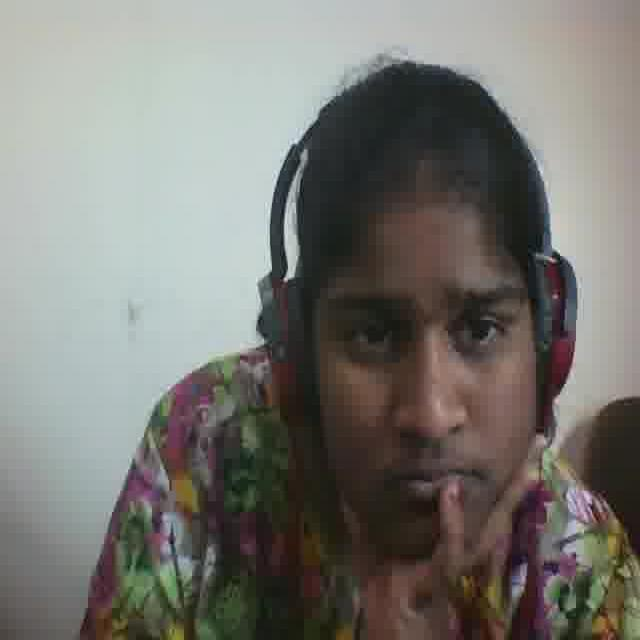Boredom: (304, 188, 532, 568)
